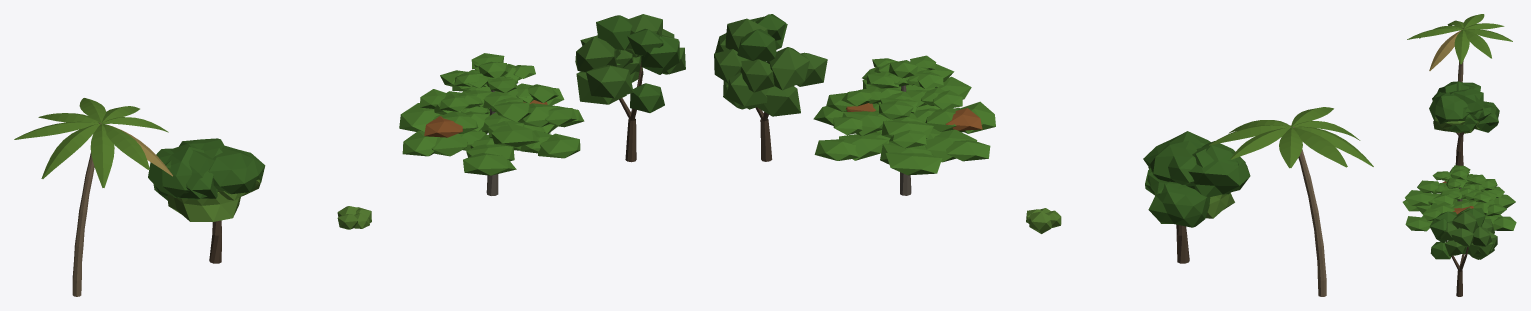
The model's file is vegetation.glb.
3 views of the same model, side by side, from view 1: azimuth 30°, elevation 25°; view 2: azimuth 150°, elevation 25°; view 3: azimuth 270°, elevation 25° (orthographic). The views are drawn at different scales.
Visible parts, largest first — view 1: veg_badamier, veg_neem, veg_arbre, veg_cocotier, veg_buisson; view 2: veg_badamier, veg_neem, veg_arbre, veg_cocotier, veg_buisson; view 3: veg_badamier, veg_neem, veg_arbre, veg_cocotier.
Boxes of the visible parts, x1,y1,x2,y2 form: veg_badamier: [399, 53, 584, 195]; veg_neem: [575, 14, 685, 162]; veg_arbre: [148, 138, 265, 263]; veg_cocotier: [14, 98, 172, 296]; veg_buisson: [337, 206, 371, 229]; veg_badamier: [813, 55, 995, 195]; veg_neem: [714, 14, 827, 161]; veg_arbre: [1143, 131, 1250, 263]; veg_cocotier: [1209, 107, 1373, 296]; veg_buisson: [1026, 208, 1061, 233]; veg_badamier: [1402, 165, 1516, 240]; veg_neem: [1429, 207, 1497, 296]; veg_arbre: [1429, 81, 1499, 165]; veg_cocotier: [1407, 14, 1512, 82].
Bounding box in the file's own units: 37.52 × 9.35 × 9.01.
